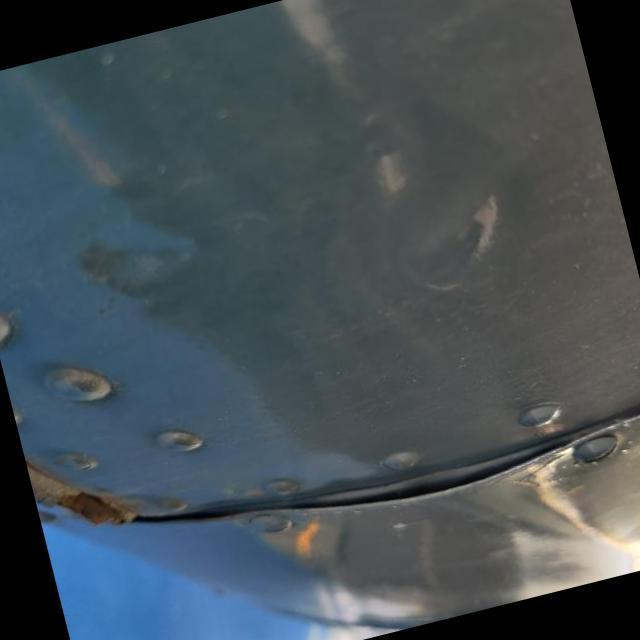Dent: (46, 188, 222, 356), (358, 148, 523, 316)
